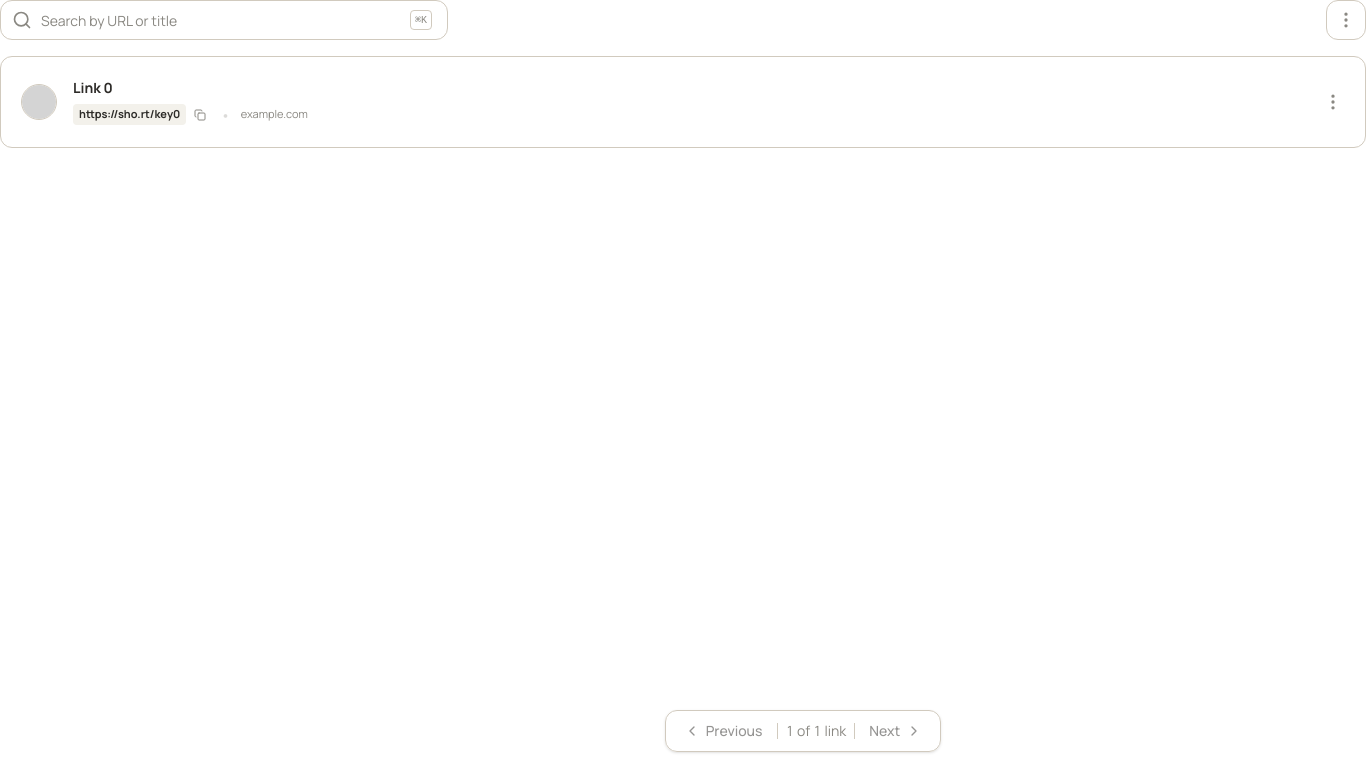
Scenario: links page › link actions › shows the edited title on the card as soon as the save succeeds, before the list reloads
Expected: the heading "Link 0" is shown, [73,78,113,97]
Click the button named "More actions for link" at (1333, 102), box [1317,88,1349,116]
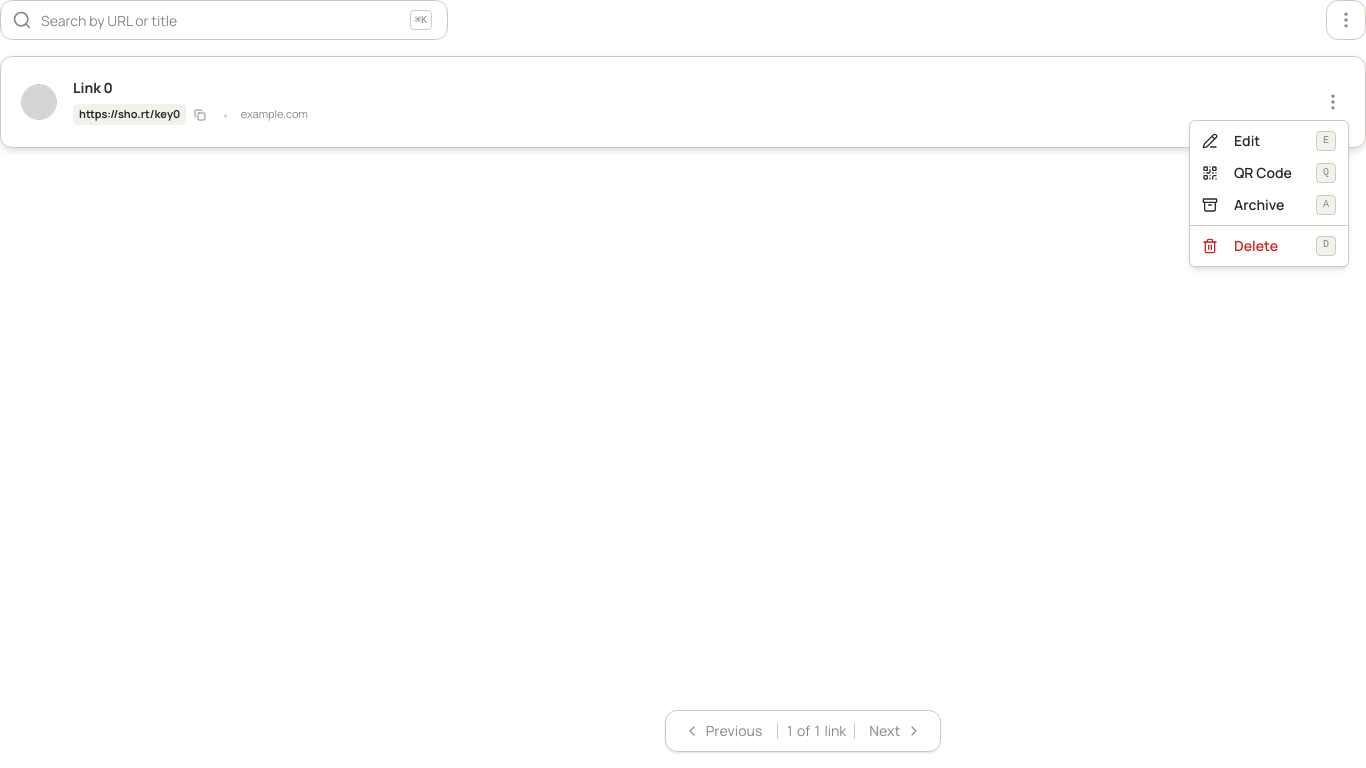
Click the menu item "Edit E" at (1210, 141), box [1194,125,1344,157]
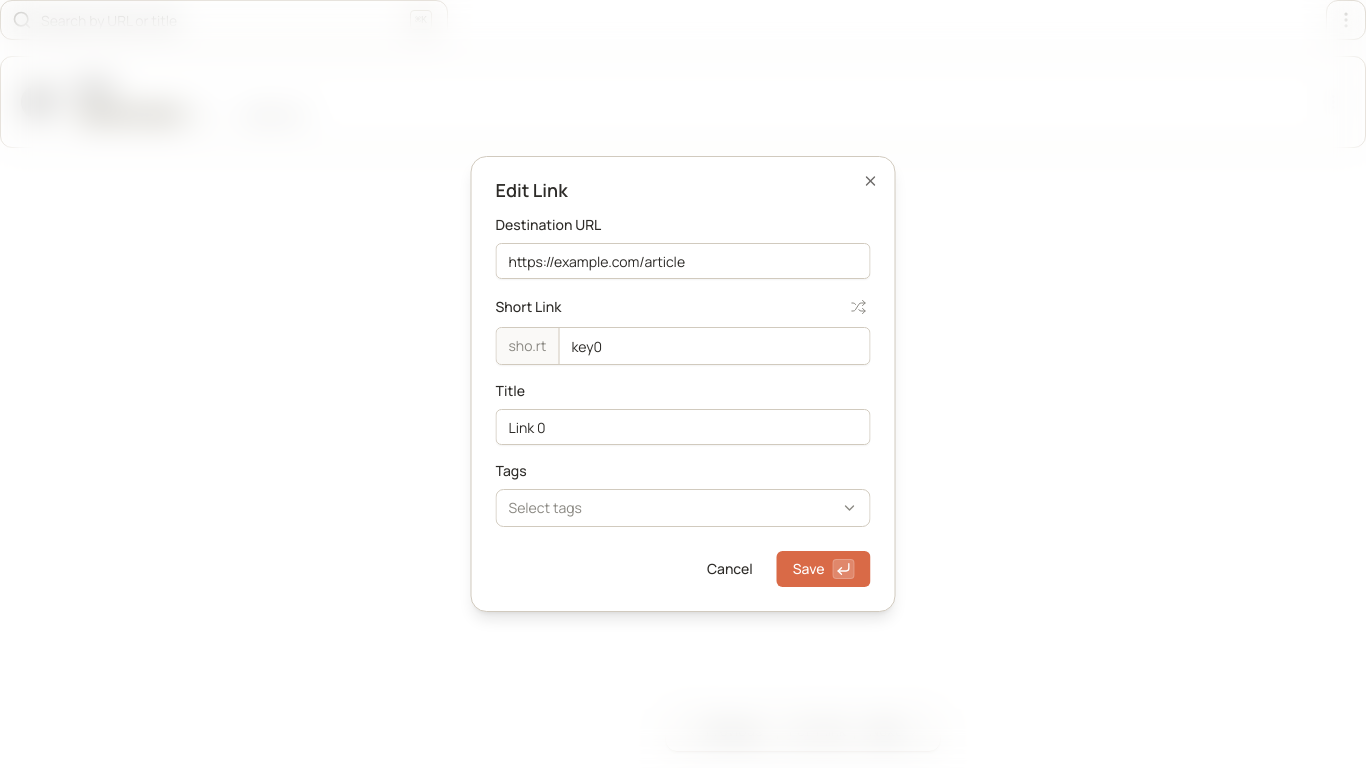
Replace the text in the field labelled "Title" with "Renamed link" at (683, 427), box [496,409,870,445]
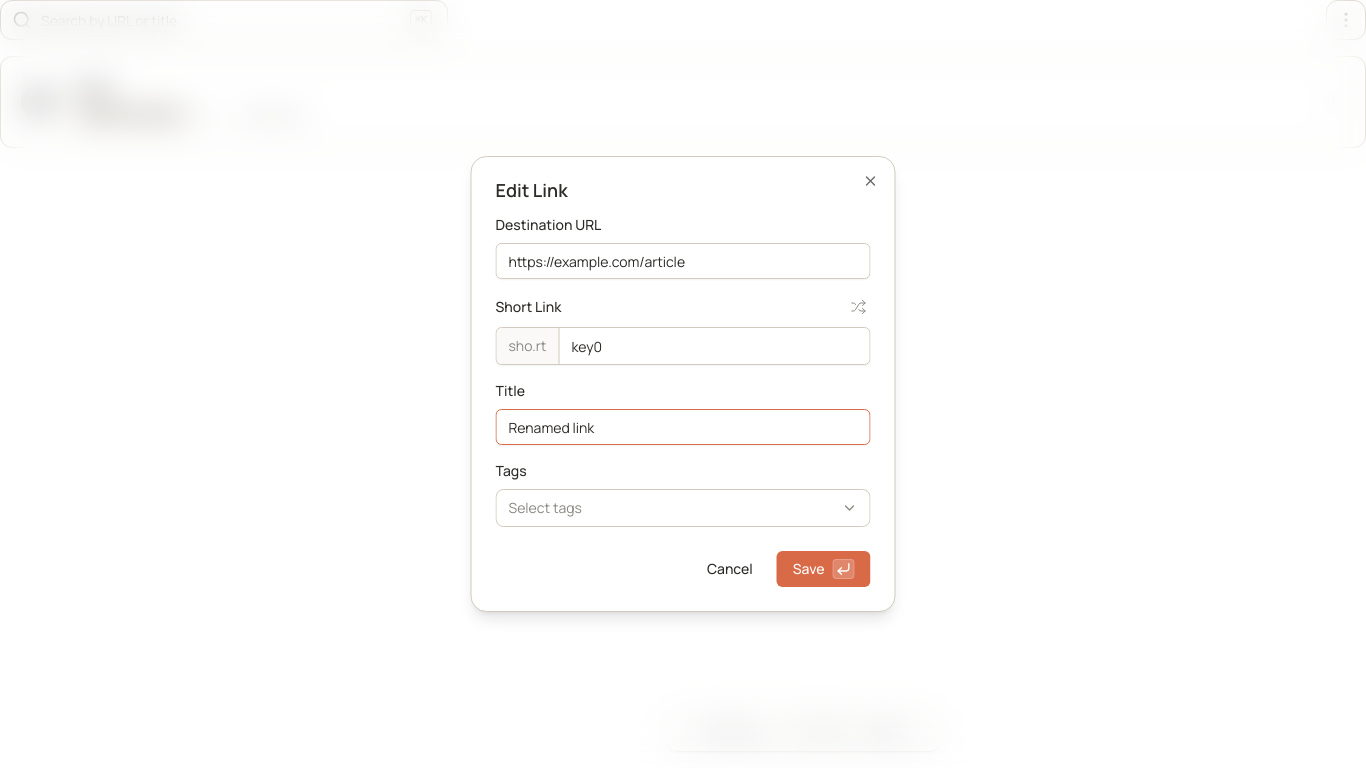
Click the button "Save" at (824, 569), box [777,551,870,587]
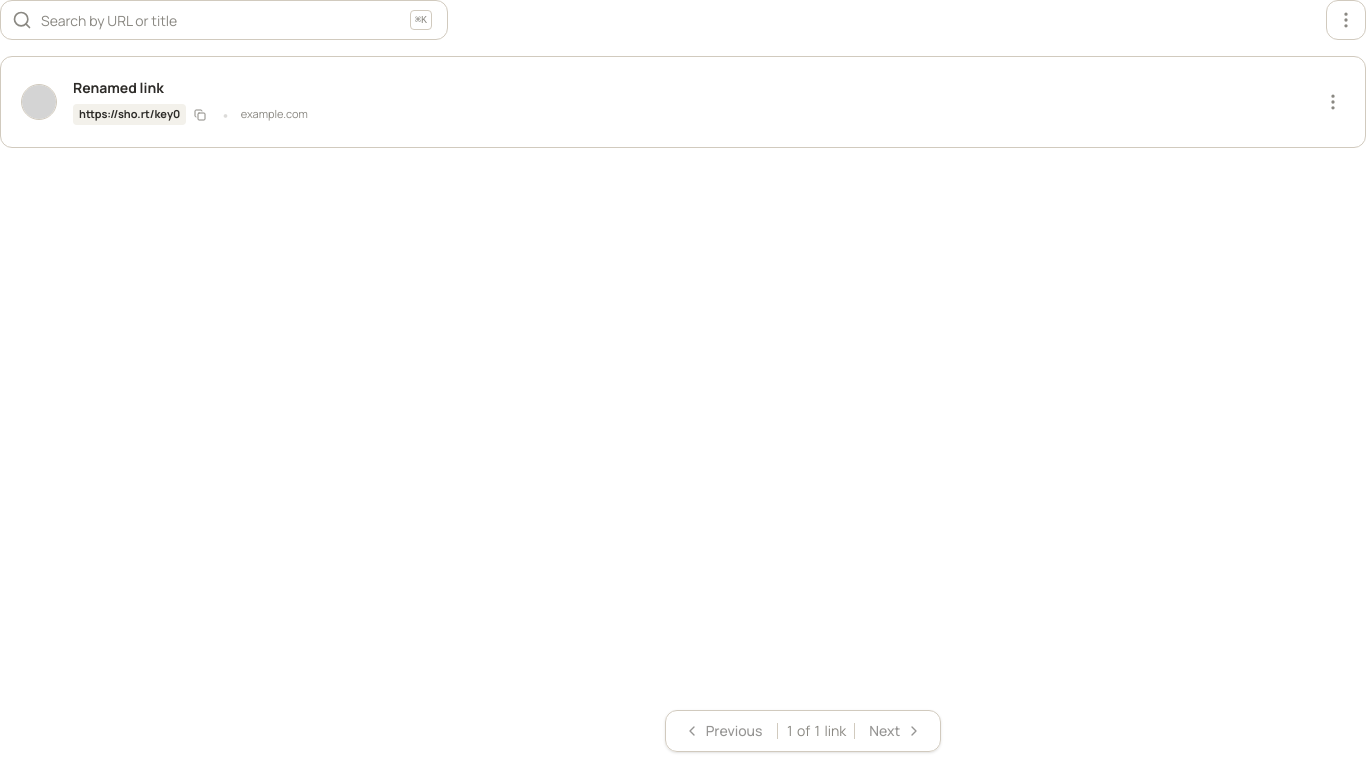
Expected: the heading "Renamed link" is shown, [73,78,164,97]
Expected: the heading "Link 0" is gone
